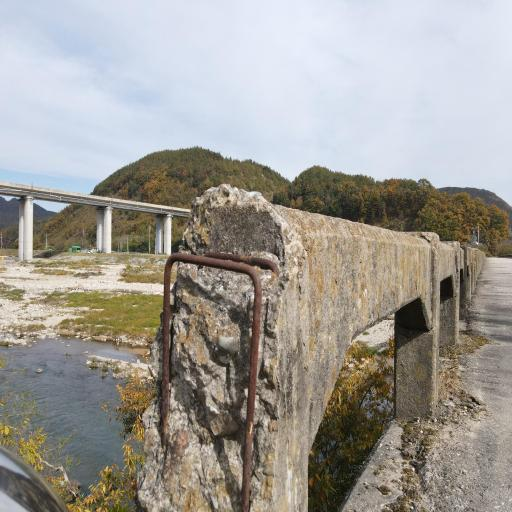exposed_rebar: (161, 252, 262, 512), (204, 252, 279, 276)
spalling: (138, 184, 283, 512)
